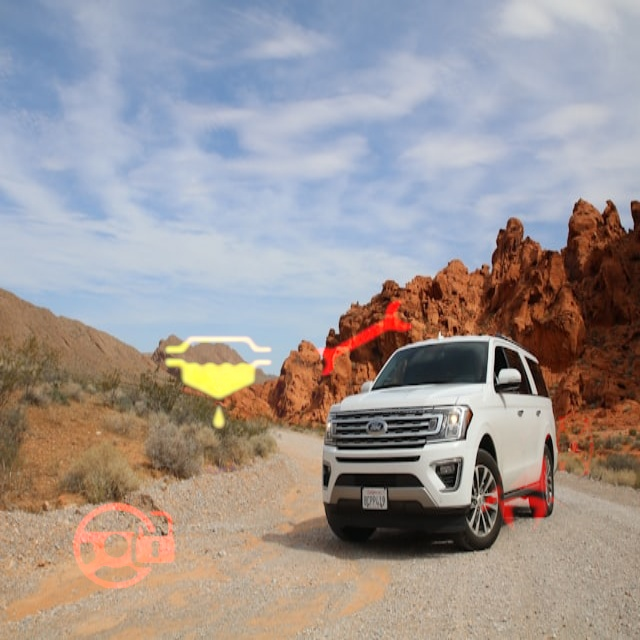symbol: (116, 279, 324, 487), (452, 388, 622, 558), (282, 257, 446, 421), (56, 478, 194, 616)
